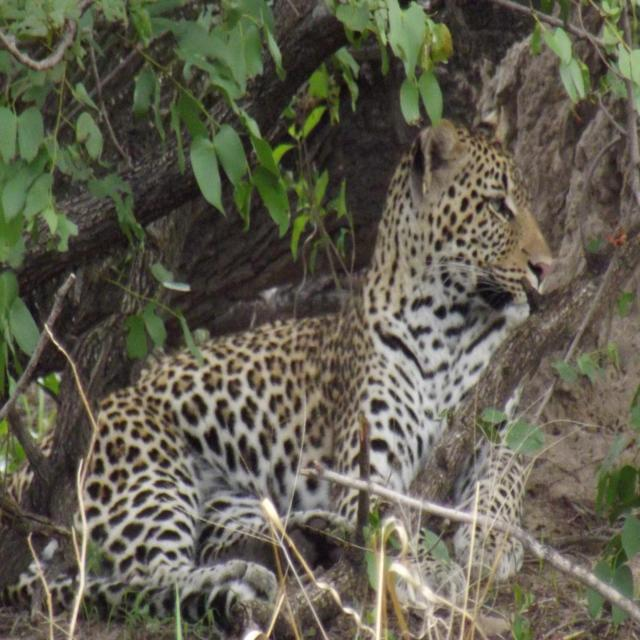Leopard: (0, 105, 545, 630)
